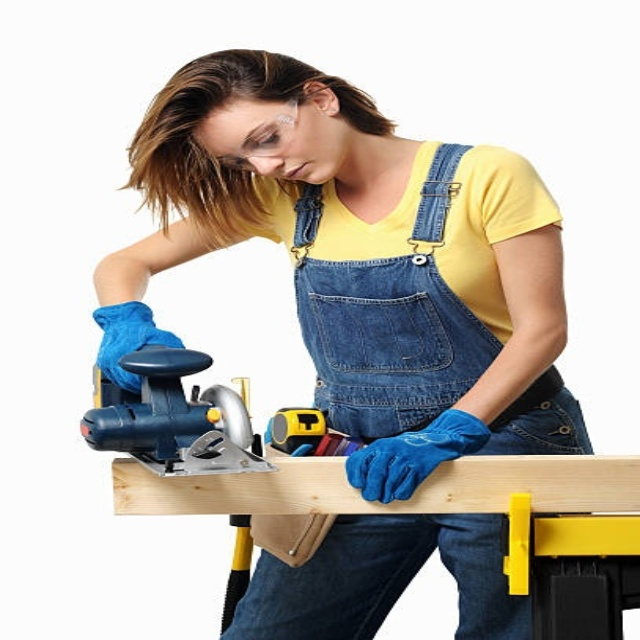Gafas: (217, 94, 302, 168)
Guantes: (345, 407, 491, 503), (93, 302, 186, 395)
Sin_mascara: (272, 157, 327, 186)
